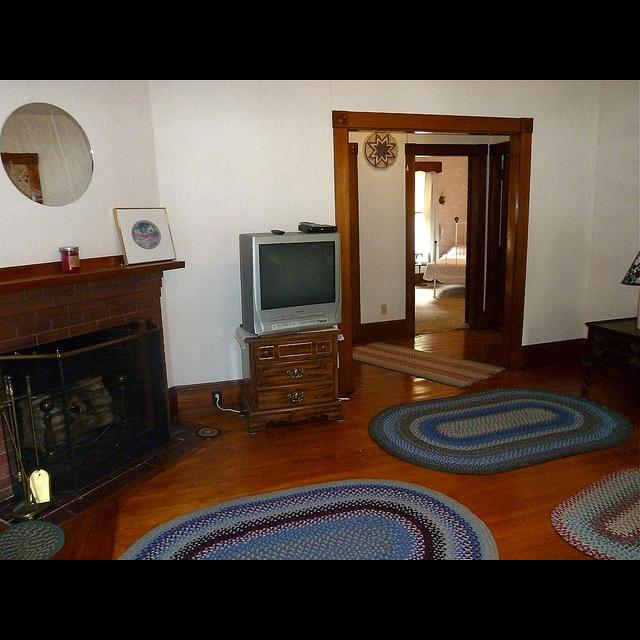TV-Remote-Control: (299, 221, 317, 227), (271, 230, 285, 235)
